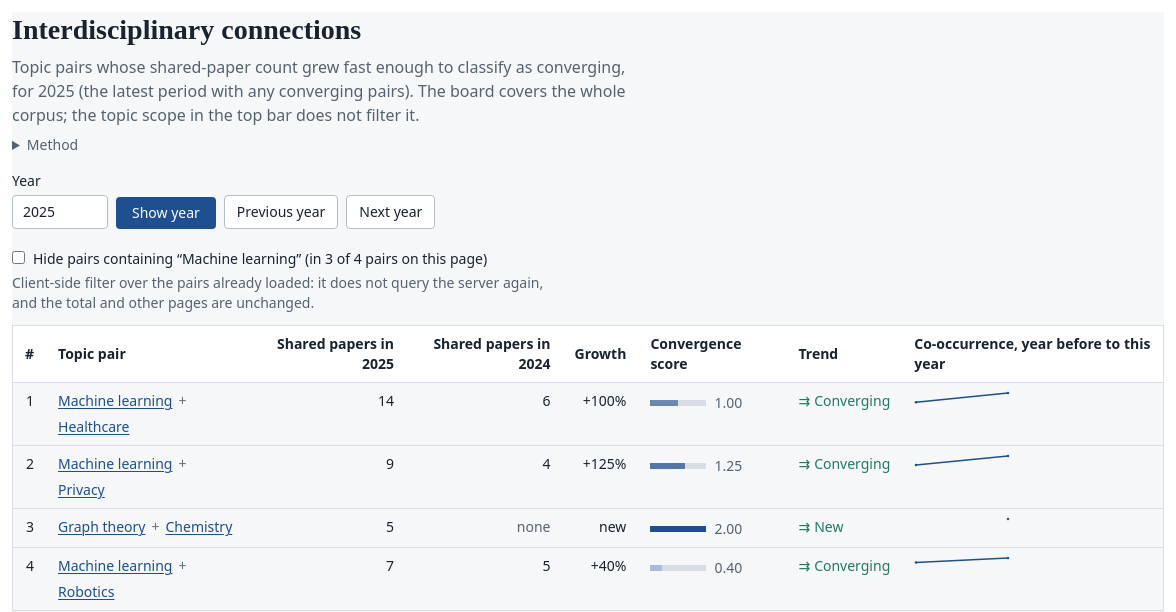
ConnectionsBoard › Phase 6c › hides those pairs client-side, keeps the server's rank numbers, and makes no new request
Click the checkbox labelled "Hide pairs containing": {"x": 18, "y": 258} [12,251,25,264]
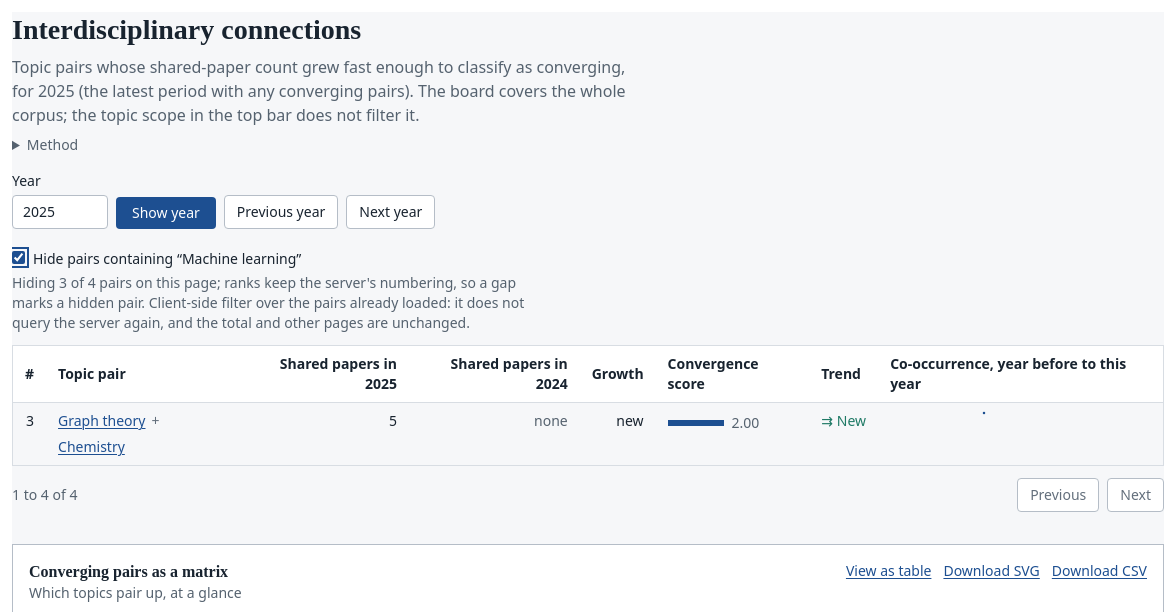
Expected: the link "Graph theory" is shown, [58,411,146,431]
Now the text "Hiding 3 of 4 pairs on this page" is shown, box [12,273,516,312]
